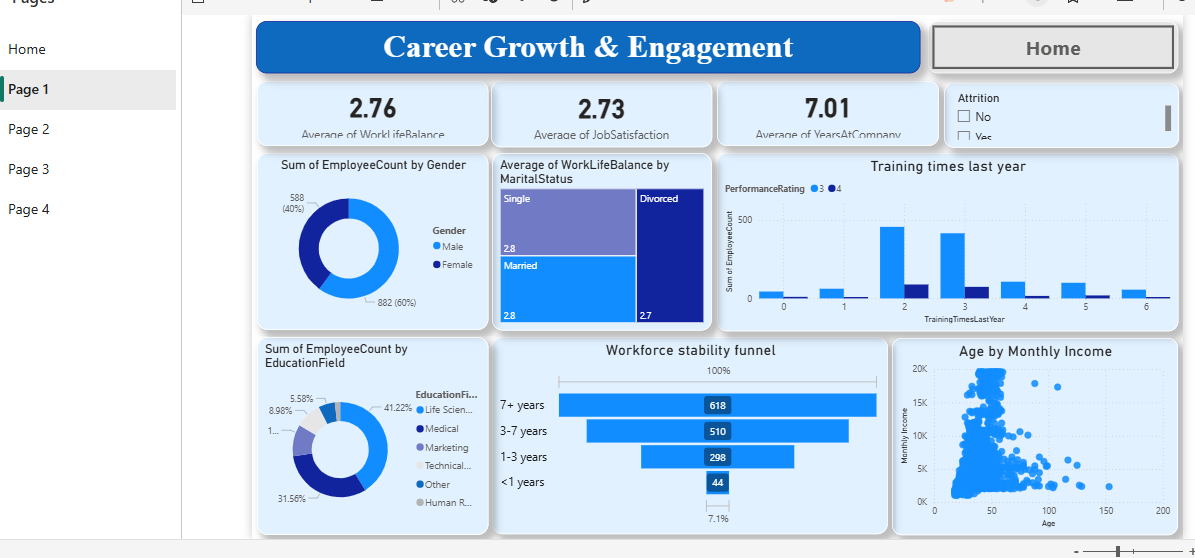

This screenshot's page, from the dashboard's own definition file:
{"tool":"powerbi","page":{"name":"Page 1","canvas":[1280,720],"ordinal":1},"visuals":[{"type":"funnel","title":"Workforce stability funnel","fields":{"Category":["IBM_HR_Final_PowerBI.employee_status"],"Y":["Sum(IBM_HR_Final_PowerBI.EmployeeCount)"]},"box":[329.8,442.1,544.3,270.7],"z":0},{"type":"clusteredColumnChart","title":"Training times last year","fields":{"Category":["IBM_HR_Final_PowerBI.TrainingTimesLastYear"],"Y":["Sum(IBM_HR_Final_PowerBI.EmployeeCount)"],"Series":["IBM_HR_Final_PowerBI.PerformanceRating"]},"box":[639.4,190.1,633.6,244.8],"z":1000},{"type":"donutChart","fields":{"Category":["IBM_HR_Final_PowerBI.Gender"],"Y":["Sum(IBM_HR_Final_PowerBI.EmployeeCount)"]},"box":[7.2,190.1,318.2,243.4],"z":2000},{"type":"donutChart","fields":{"Y":["Sum(IBM_HR_Final_PowerBI.EmployeeCount)"],"Category":["IBM_HR_Final_PowerBI.EducationField"]},"box":[6.6,441.9,317.7,271.5],"z":3000},{"type":"scatterChart","fields":{"X":["Sum(IBM_HR_Final_PowerBI.Age)"],"Y":["IBM_HR_Final_PowerBI.MonthlyIncome"]},"box":[879.8,443.5,393.1,270.7],"z":4000},{"type":"card","fields":{"Values":["Avg(IBM_HR_Final_PowerBI.WorkLifeBalance)"]},"box":[7.2,90.7,318.2,89.3],"z":5000},{"type":"card","fields":{"Values":["Avg(IBM_HR_Final_PowerBI.JobSatisfaction)"]},"box":[328.3,90.7,303.8,90.7],"z":6000},{"type":"card","fields":{"Values":["Avg(IBM_HR_Final_PowerBI.YearsAtCompany)"]},"box":[639.4,90.7,305.3,89.3],"z":7000},{"type":"slicer","fields":{"Values":["IBM_HR_Final_PowerBI.Attrition"]},"box":[950.4,93.6,322.6,89.3],"z":8000},{"type":"treemap","fields":{"Group":["IBM_HR_Final_PowerBI.MaritalStatus"],"Values":["Avg(IBM_HR_Final_PowerBI.WorkLifeBalance)"]},"box":[329.8,190.2,302.3,244],"z":9000},{"type":"actionButton","box":[928.8,8.6,344.2,72],"z":10000},{"type":"textbox","box":[5.9,8.8,913.2,71.7],"z":11000}]}

Visuals, with their boxes on the page's 1280x720 design canvas (x1, y1, x2, y2). These are canvas units, not pixel positions in the 1195x558 screenshot, which may show the page scaled, cropped or inside an application window:
"Workforce stability funnel" funnel: locate(330, 442, 874, 713)
"Training times last year" clusteredColumnChart: locate(639, 190, 1273, 435)
donutChart - IBM_HR_Final_PowerBI.Gender x Sum(IBM_HR_Final_PowerBI.EmployeeCount): locate(7, 190, 325, 434)
donutChart - Sum(IBM_HR_Final_PowerBI.EmployeeCount) x IBM_HR_Final_PowerBI.EducationField: locate(7, 442, 324, 713)
scatterChart - Sum(IBM_HR_Final_PowerBI.Age) x IBM_HR_Final_PowerBI.MonthlyIncome: locate(880, 444, 1273, 714)
card - Avg(IBM_HR_Final_PowerBI.WorkLifeBalance): locate(7, 91, 325, 180)
card - Avg(IBM_HR_Final_PowerBI.JobSatisfaction): locate(328, 91, 632, 181)
card - Avg(IBM_HR_Final_PowerBI.YearsAtCompany): locate(639, 91, 945, 180)
slicer - IBM_HR_Final_PowerBI.Attrition: locate(950, 94, 1273, 183)
treemap - IBM_HR_Final_PowerBI.MaritalStatus x Avg(IBM_HR_Final_PowerBI.WorkLifeBalance): locate(330, 190, 632, 434)
actionButton: locate(929, 9, 1273, 81)
textbox: locate(6, 9, 919, 80)
